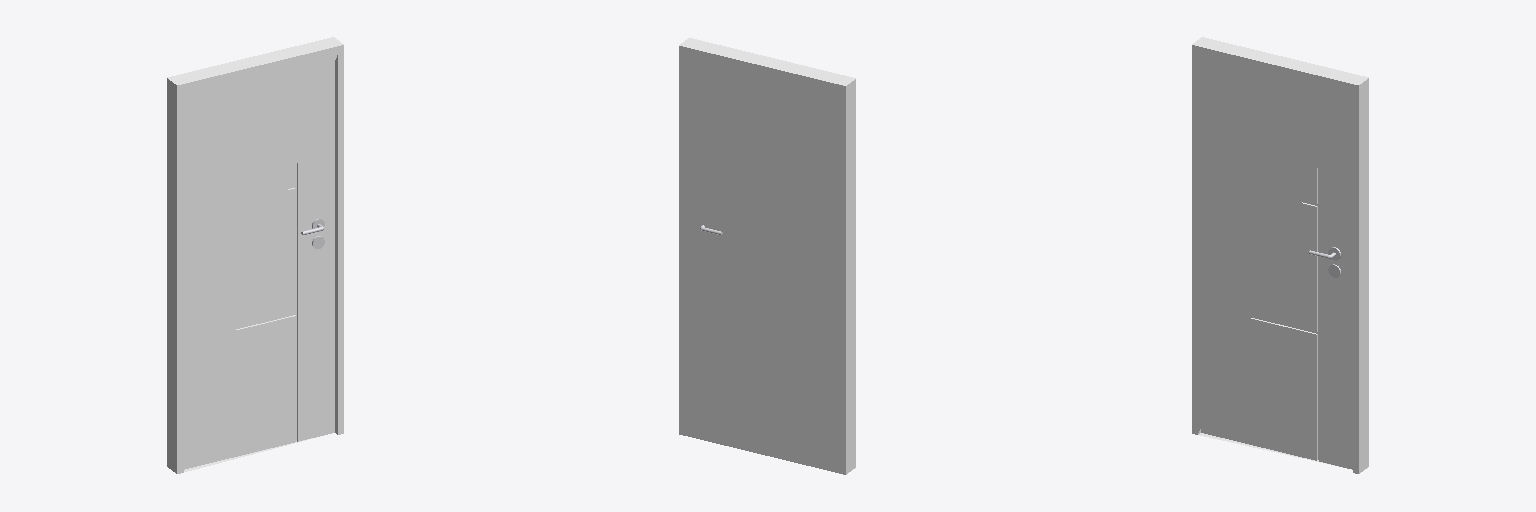
Rendered from door3.obj.
3 views of the same model, side by side, from view 1: azimuth 30°, elevation 25°; view 2: azimuth 150°, elevation 25°; view 3: azimuth 330°, elevation 25° (orthographic).
Parts seen in each view (by area): view 1: Mesh9 Group2 Group1 Group_26_1 Model; view 2: Mesh9 Group2 Group1 Group_26_1 Model; view 3: Mesh9 Group2 Group1 Group_26_1 Model.
Boxes of the visible parts, x1=… form: Mesh9 Group2 Group1 Group_26_1 Model: x1=167, y1=37, x2=343, y2=473; Mesh9 Group2 Group1 Group_26_1 Model: x1=679, y1=38, x2=855, y2=474; Mesh9 Group2 Group1 Group_26_1 Model: x1=1192, y1=37, x2=1368, y2=473.
Bounding box in the file's own units: 35.43 × 78.74 × 6.77.